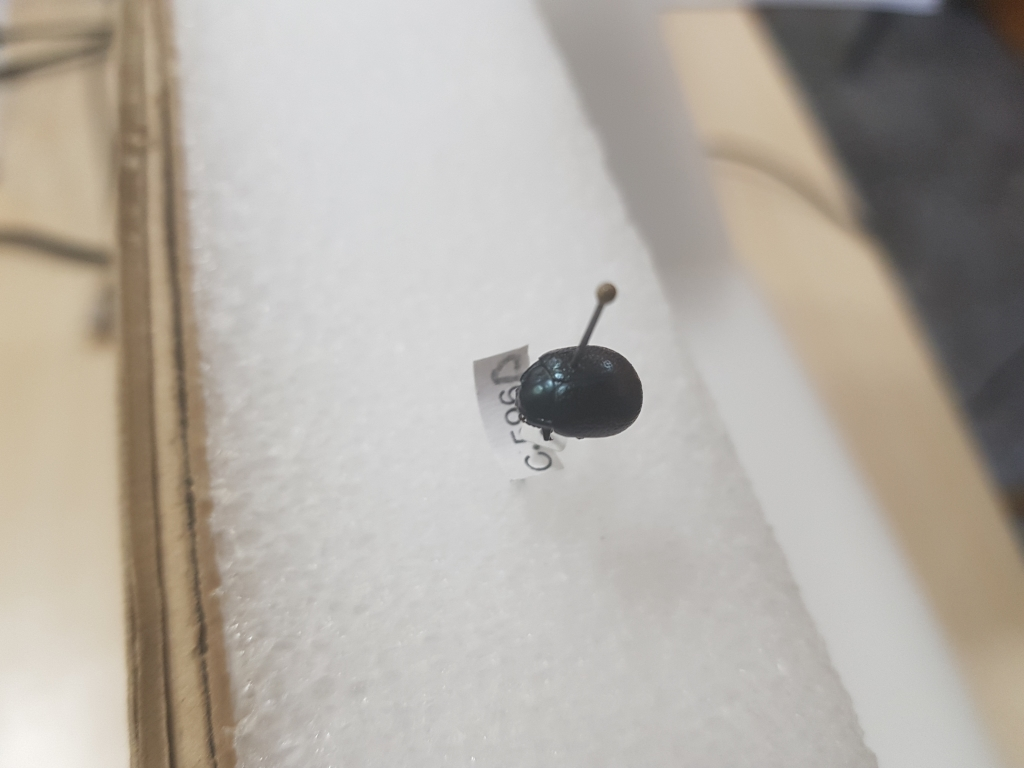Chrysolina_oricalcia: (515, 334, 645, 441)
